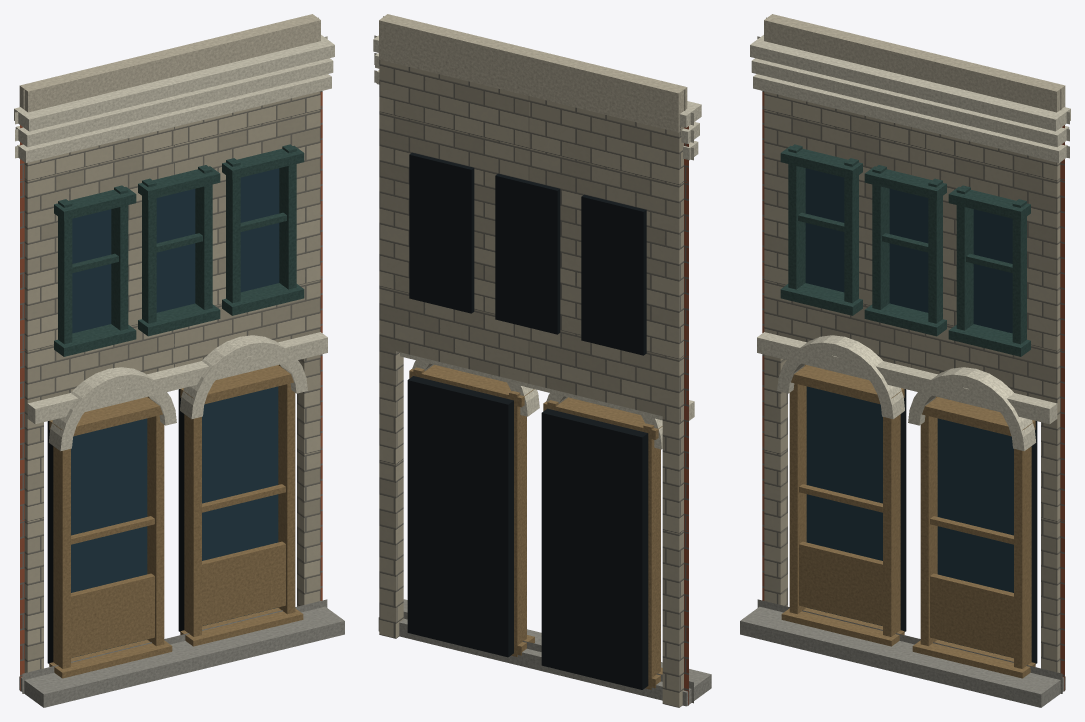
Rendered from CLSTGA15_lod2.glb.
3 renders of one model, left to right at view 1: azimuth 30°, elevation 25°; view 2: azimuth 150°, elevation 25°; view 3: azimuth 330°, elevation 25°, orthographic. The views are drawn at different scales.
Visible parts, largest first — view 1: CLSTGA15_FRONT_LOD2; view 2: CLSTGA15_FRONT_LOD2; view 3: CLSTGA15_FRONT_LOD2.
Part boxes in pixels (x1=…): CLSTGA15_FRONT_LOD2: x1=14, y1=14, x2=344, y2=707; CLSTGA15_FRONT_LOD2: x1=373, y1=14, x2=711, y2=707; CLSTGA15_FRONT_LOD2: x1=740, y1=14, x2=1070, y2=707.
Bounding box in the file's own units: 3.84 × 7.05 × 0.68.
10 materials, 8 textured.
